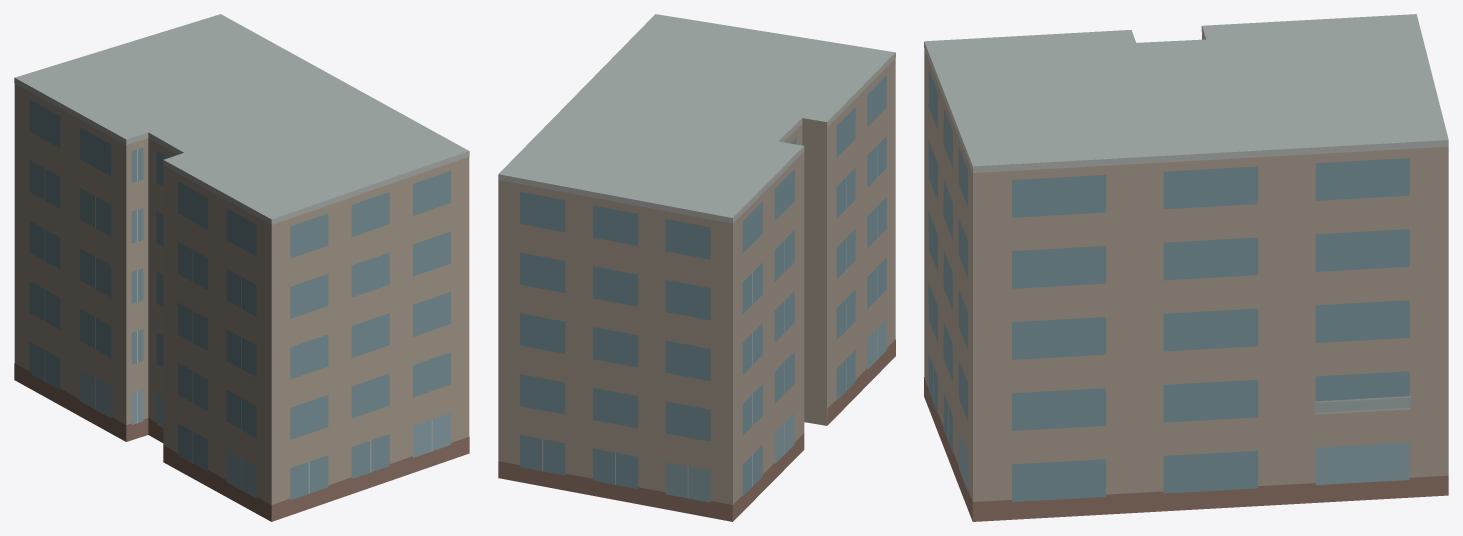
The model's file is survey-upis-32660374.glb.
3 views of the same model, side by side, from view 1: azimuth 30°, elevation 25°; view 2: azimuth 150°, elevation 25°; view 3: azimuth 270°, elevation 25° (orthographic). The views are drawn at different scales.
Visible parts, largest first — view 1: survey-upis-32660374.tmp; view 2: survey-upis-32660374.tmp; view 3: survey-upis-32660374.tmp.
Part boxes in pixels (left/top/right/bottom): survey-upis-32660374.tmp: left=14, top=14, right=469, bottom=521; survey-upis-32660374.tmp: left=498, top=14, right=895, bottom=521; survey-upis-32660374.tmp: left=924, top=14, right=1448, bottom=521.
Bounding box in the file's own units: 12.16 × 13.2 × 17.67.
